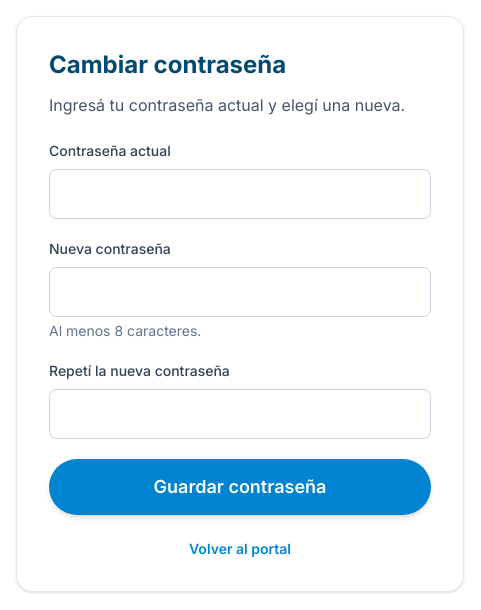
Test: ChangePasswordPage › exige un mínimo de 8 caracteres en la nueva contraseña
The width and height of the screenshot is (481, 610).
Type "Password123" into the password field labelled "Contraseña actual".
click(240, 194); type("Password123")  # box [49,169,431,219]
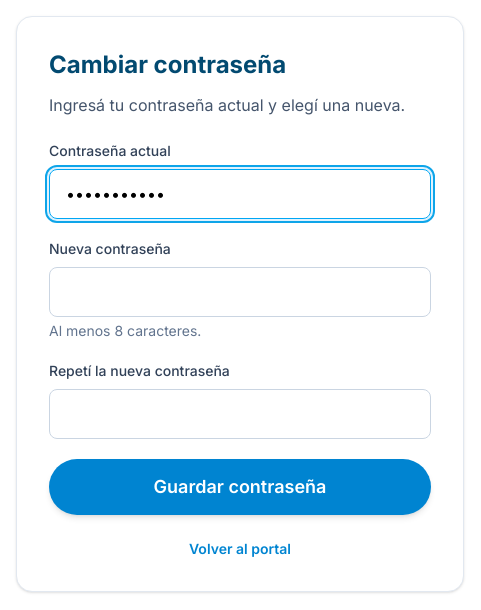
Type "corta7" into the password field labelled "Nueva contraseña".
click(240, 292); type("corta7")  # box [49,267,431,317]
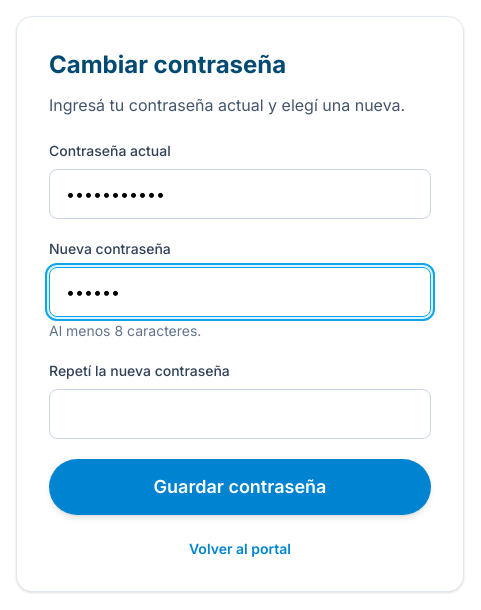
Type "corta7" into the password field labelled "Repetí la nueva contraseña".
click(240, 414); type("corta7")  # box [49,389,431,439]
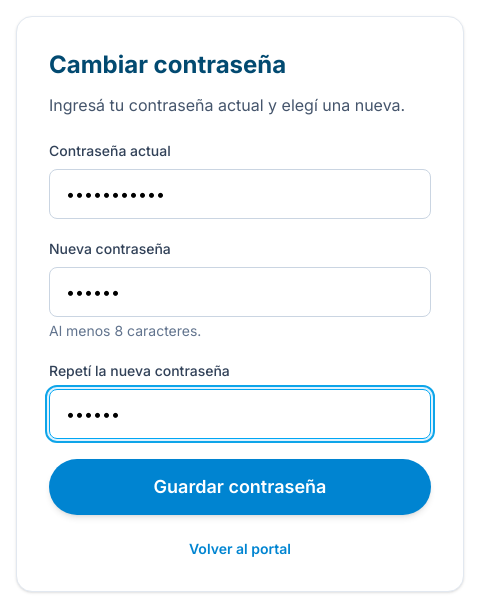
Click the button "Guardar contraseña".
click(240, 487)  # box [49,459,431,515]
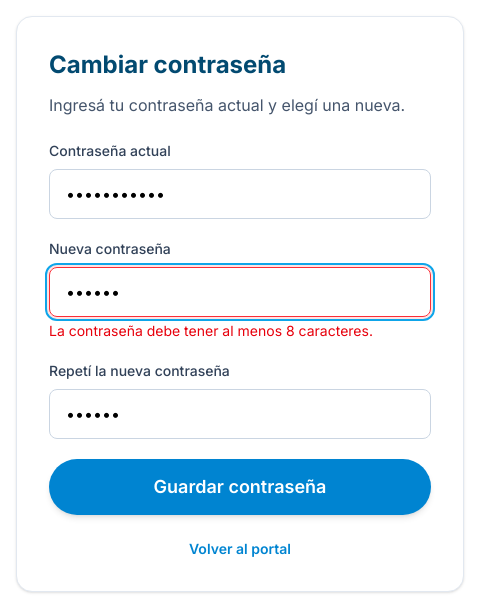
Now the text "La contraseña debe tener al menos 8 caracteres." is shown, box [49,322,373,339]
